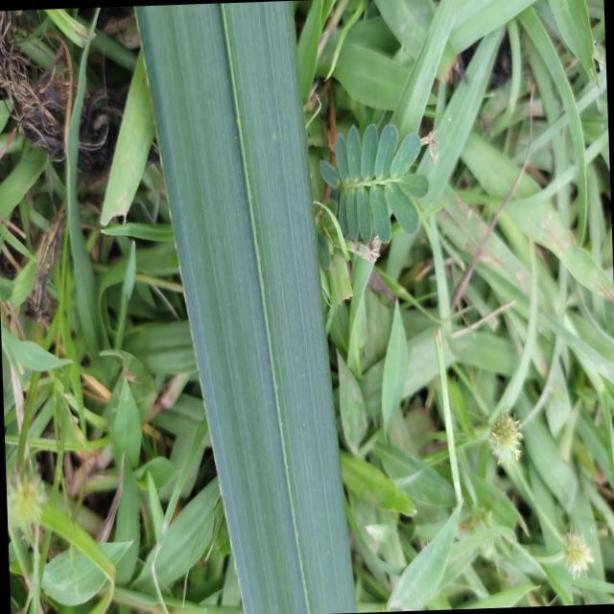Healthy: (134, 1, 359, 614)
